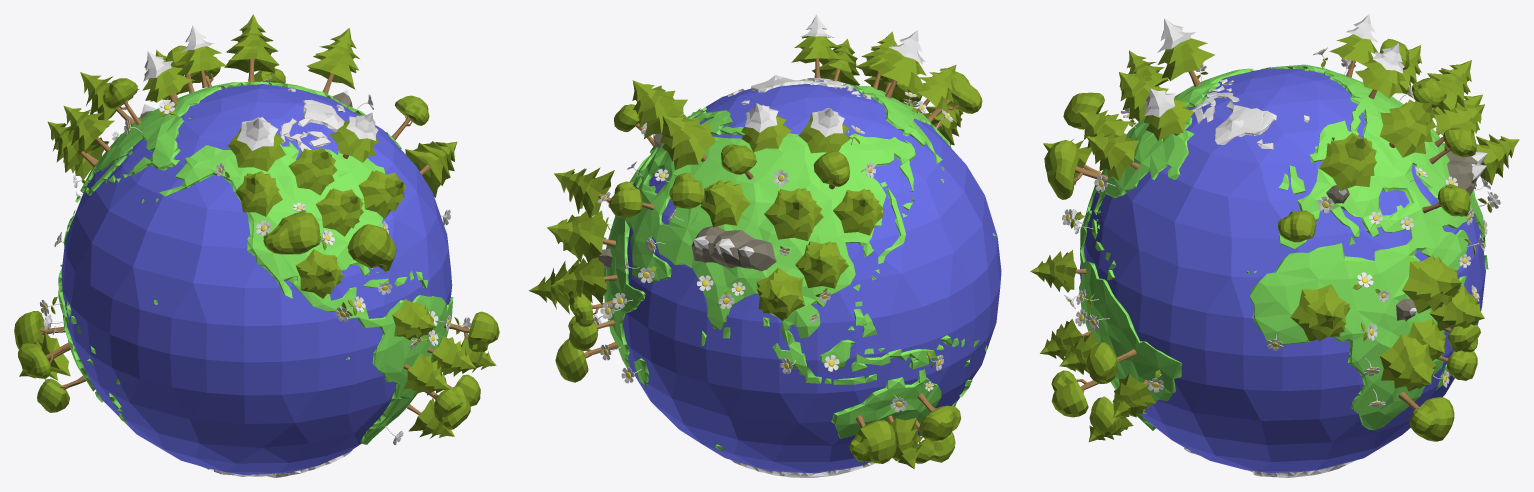
File: sceneEarth.gltf
3 views of the same model, side by side, from view 1: azimuth 30°, elevation 25°; view 2: azimuth 150°, elevation 25°; view 3: azimuth 270°, elevation 25° (orthographic). The views are drawn at different scales.
Parts seen in each view (by area): view 1: Sphere, Globo_Sphere.003, Cylinder.002, Cylinder.023, Cylinder.003, Cylinder.013, Cylinder.008, Cylinder.015, Cylinder.076, Cylinder.010, Cylinder.006, Cylinder.004 (+19 smaller); view 2: Sphere, Globo_Sphere.003, Cylinder.048, Cylinder.025, Cylinder.023, Cylinder.016, Cylinder.002, Cylinder.013, Cylinder.090, Cylinder.026, Cylinder.027, Cylinder.015 (+23 smaller); view 3: Sphere, Globo_Sphere.003, Cylinder.015, Cylinder.023, Cylinder.013, Cylinder.016, Cylinder.018, Cylinder.002, Cylinder.008, Cylinder.076, Cylinder.075, Cylinder.019 (+26 smaller).
Boxes of the visible parts, x1,y1,x2,y2 form: Sphere: (61, 84, 452, 475); Globo_Sphere.003: (58, 81, 453, 477); Cylinder.002: (227, 117, 285, 171); Cylinder.023: (224, 14, 279, 81); Cylinder.003: (263, 211, 320, 254); Cylinder.013: (307, 28, 359, 93); Cylinder.008: (347, 224, 396, 271); Cylinder.015: (405, 141, 457, 197); Cylinder.076: (330, 112, 378, 162); Cylinder.010: (296, 249, 343, 298); Cylinder.006: (315, 188, 363, 236); Cylinder.004: (288, 147, 336, 195); Sphere: (623, 80, 1001, 473); Globo_Sphere.003: (604, 75, 996, 477); Cylinder.048: (691, 226, 776, 271); Cylinder.025: (764, 188, 823, 240); Cylinder.023: (660, 114, 716, 170); Cylinder.016: (547, 210, 615, 262); Cylinder.002: (868, 30, 926, 98); Cylinder.013: (632, 80, 687, 138); Cylinder.090: (756, 267, 804, 320); Cylinder.026: (795, 241, 848, 288); Cylinder.027: (849, 415, 896, 463); Cylinder.015: (554, 167, 614, 217); Sphere: (1080, 68, 1485, 473); Globo_Sphere.003: (1077, 64, 1488, 477); Cylinder.015: (1290, 284, 1350, 341); Cylinder.023: (1380, 99, 1436, 157); Cylinder.013: (1319, 132, 1376, 190); Cylinder.016: (1402, 255, 1461, 313); Cylinder.018: (1380, 334, 1436, 391); Cylinder.002: (1157, 18, 1214, 86); Cylinder.008: (1044, 140, 1107, 199); Cylinder.076: (1143, 88, 1193, 141); Cylinder.075: (1355, 43, 1405, 98); Cylinder.019: (1398, 392, 1454, 441).
Size of the model in its own units: 7.66 by 7.19 by 7.53.
